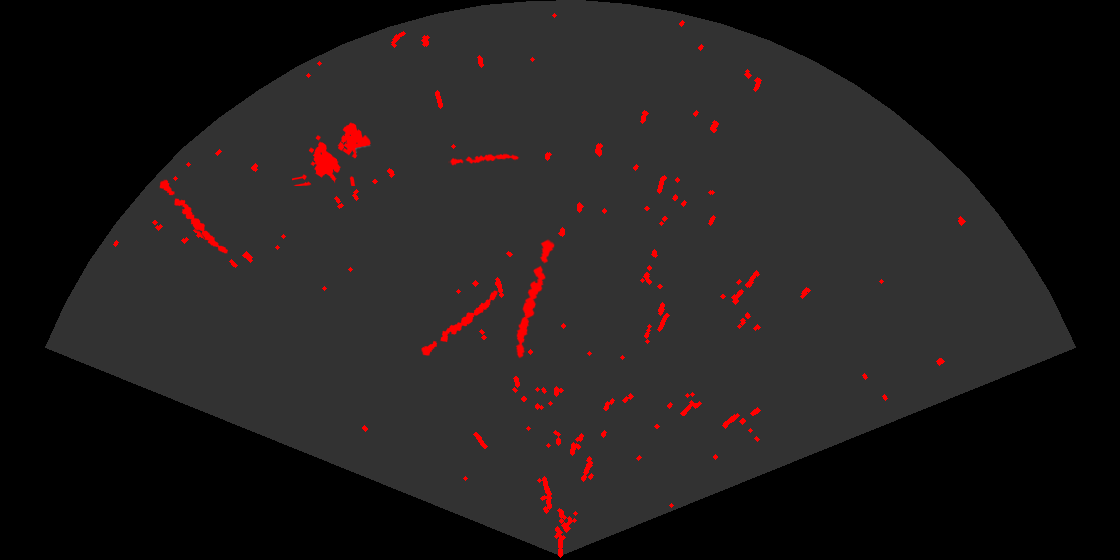cage: (292, 121, 372, 186)
chain: (158, 178, 230, 255), (420, 289, 499, 357), (514, 237, 556, 360), (448, 152, 520, 167)
